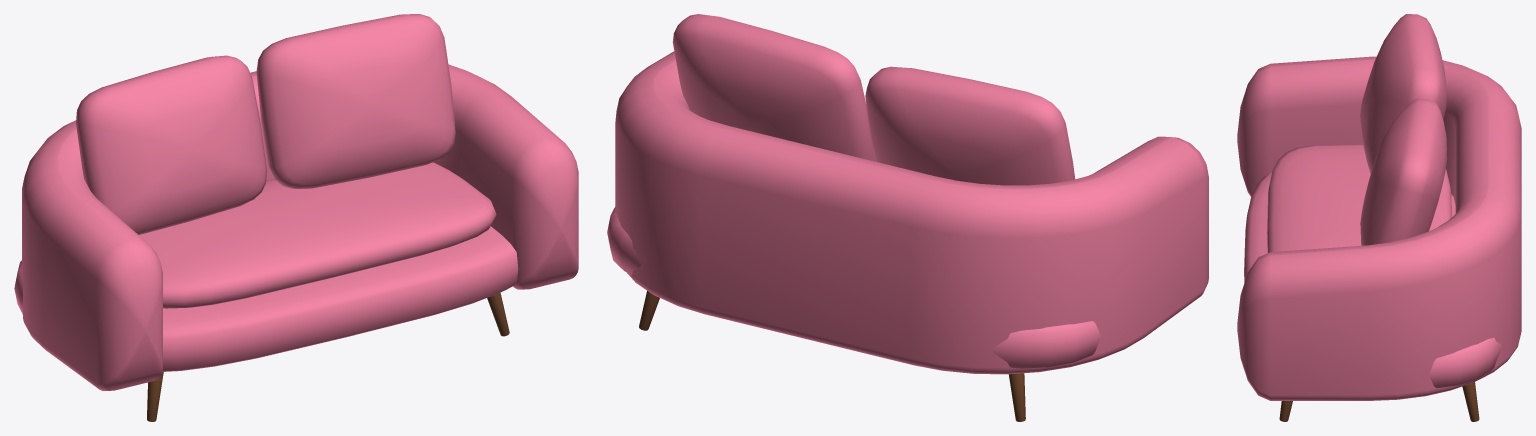
The model's file is namoradeira_curva_rosa.glb.
3 renders of one model, left to right at view 1: azimuth 30°, elevation 25°; view 2: azimuth 150°, elevation 25°; view 3: azimuth 270°, elevation 25°, orthographic. The views are drawn at different scales.
Parts seen in each view (by area): view 1: namoradeira_curva_rosa; view 2: namoradeira_curva_rosa; view 3: namoradeira_curva_rosa.
Boxes of the visible parts, <box> form: namoradeira_curva_rosa: <box>14,14,578,421</box>; namoradeira_curva_rosa: <box>607,14,1208,421</box>; namoradeira_curva_rosa: <box>1237,14,1521,421</box>.
Size of the model in its own units: 1.55 by 0.8591 by 0.8597.
1 material, 1 textured.
